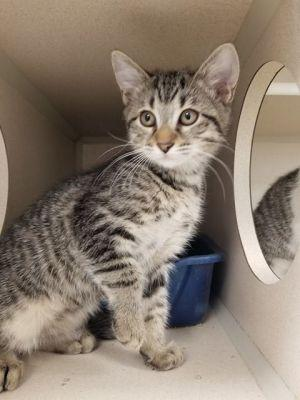bengal: (104, 31, 247, 180)
